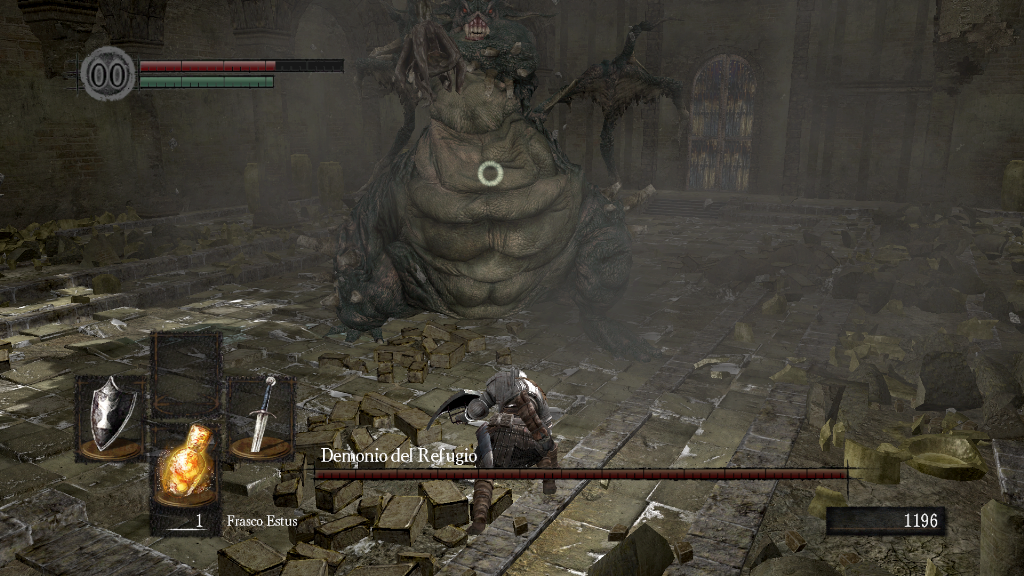asylumDemon: (328, 1, 685, 368)
bossHP: (314, 469, 847, 479)
health: (138, 58, 343, 71)
humanity: (80, 45, 136, 102)
player: (424, 364, 565, 524)
souls: (825, 506, 945, 536)
stamina: (138, 74, 274, 88)
